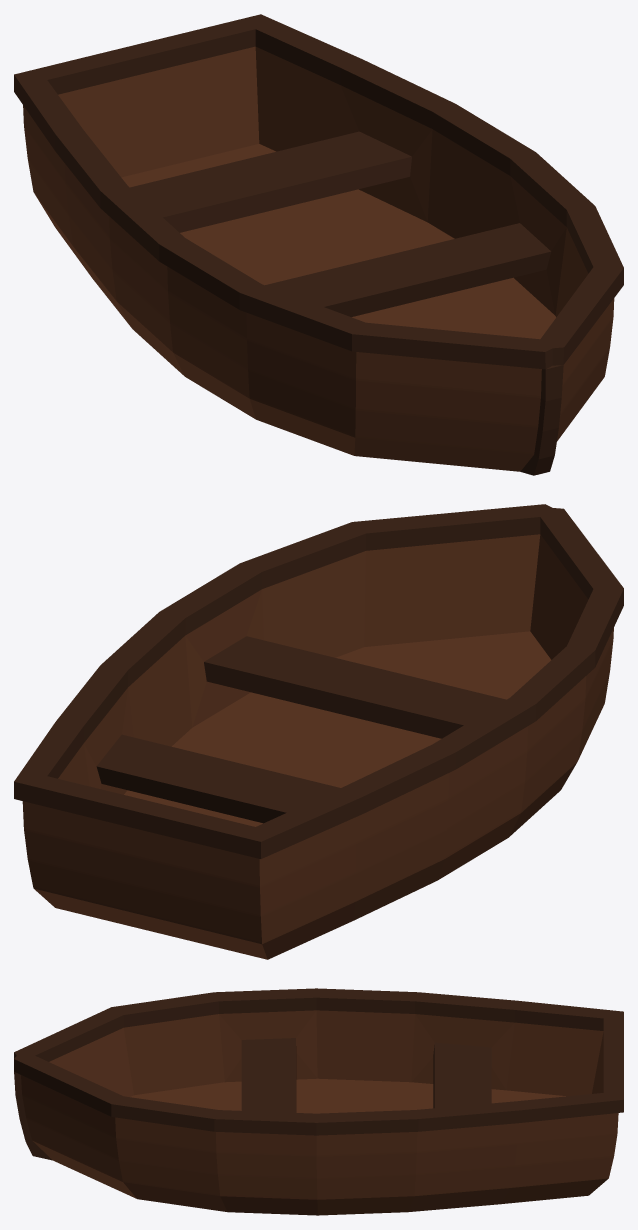
File: boat.fbx
3 views of the same model, one above another, from view 1: azimuth 30°, elevation 25°; view 2: azimuth 150°, elevation 25°; view 3: azimuth 270°, elevation 25° (orthographic). The views are drawn at different scales.
Visible parts, largest first — view 1: Cube; view 2: Cube; view 3: Cube.
Boxes of the visible parts, x1,y1,x2,y2 form: Cube: [14, 14, 623, 475]; Cube: [14, 504, 623, 959]; Cube: [14, 988, 623, 1215].
Size of the model in its own units: 465 by 165 by 892.
